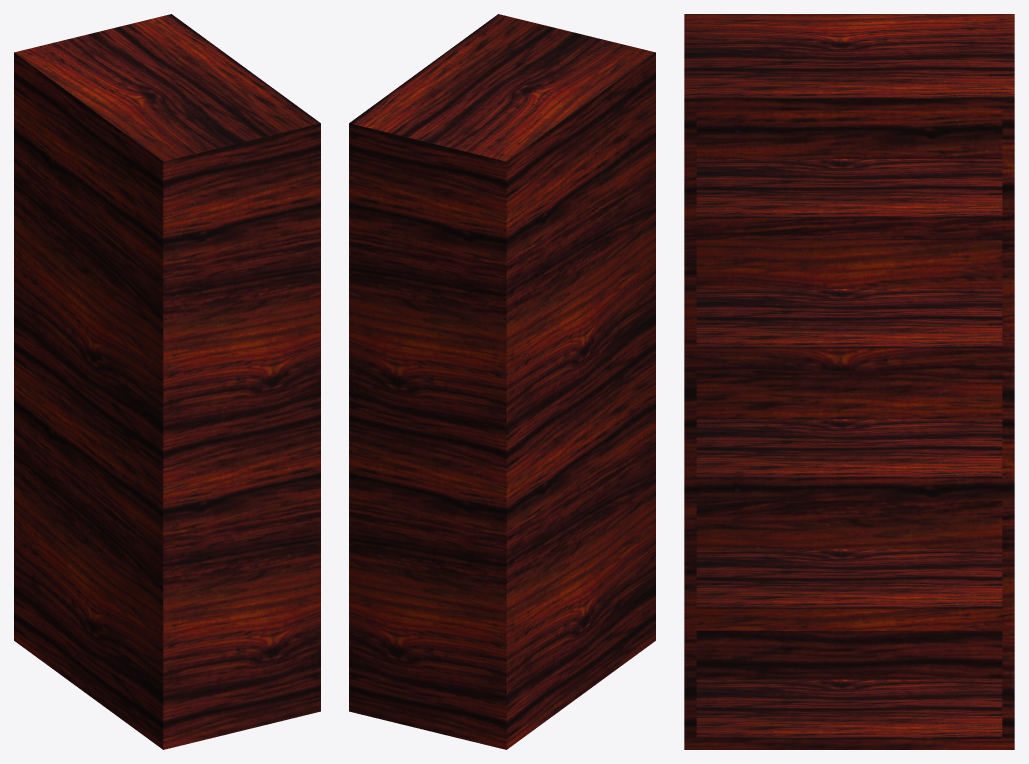
Rendered from SHELF_01.fbx.
3 renders of one model, left to right at view 1: azimuth 30°, elevation 25°; view 2: azimuth 150°, elevation 25°; view 3: azimuth 270°, elevation 25°, orthographic. The views are drawn at different scales.
Parts seen in each view (by area): view 1: SHELF_01; view 2: SHELF_01; view 3: SHELF_01.
Part boxes in pixels (x1,y1,x2,y2): SHELF_01: [14, 14, 320, 749]; SHELF_01: [349, 14, 655, 749]; SHELF_01: [684, 14, 1014, 749].
Bounding box in the file's own units: 49.69 × 177 × 81.56.
